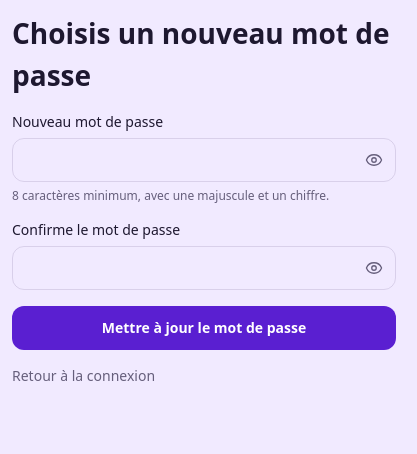
it: ResetPasswordForm — nouveau mot de passe depuis le lien de réinitialisation (LOT 1) › refuse un mot de passe qui ne respecte pas le format requis
Type "short" into the password field labelled "Nouveau mot de passe" at {"x": 204, "y": 160}, box [12, 138, 396, 182]
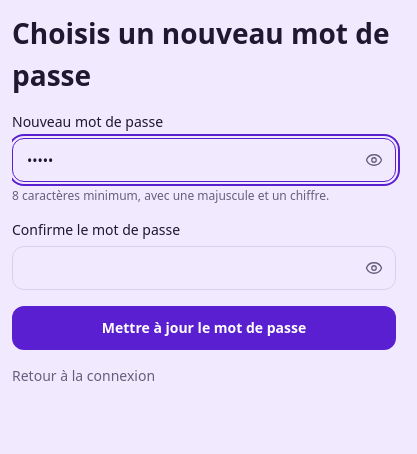
Type "short" into the password field labelled "Confirme le mot de passe" at {"x": 204, "y": 268}, box [12, 246, 396, 290]
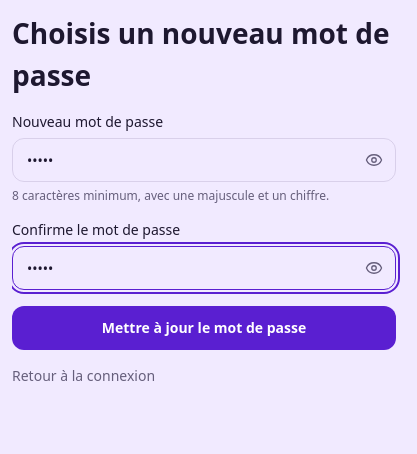
Click the button "Mettre à jour le mot de passe" at {"x": 204, "y": 328}, box [12, 306, 396, 350]
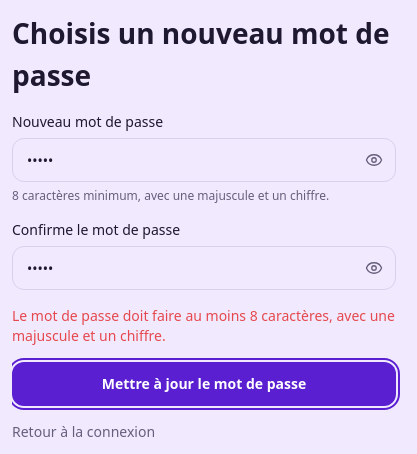
Expected: the text "Le mot de passe doit faire au moins 8 caractères, avec une majuscule et un chiffre." is shown, [12, 306, 395, 345]
